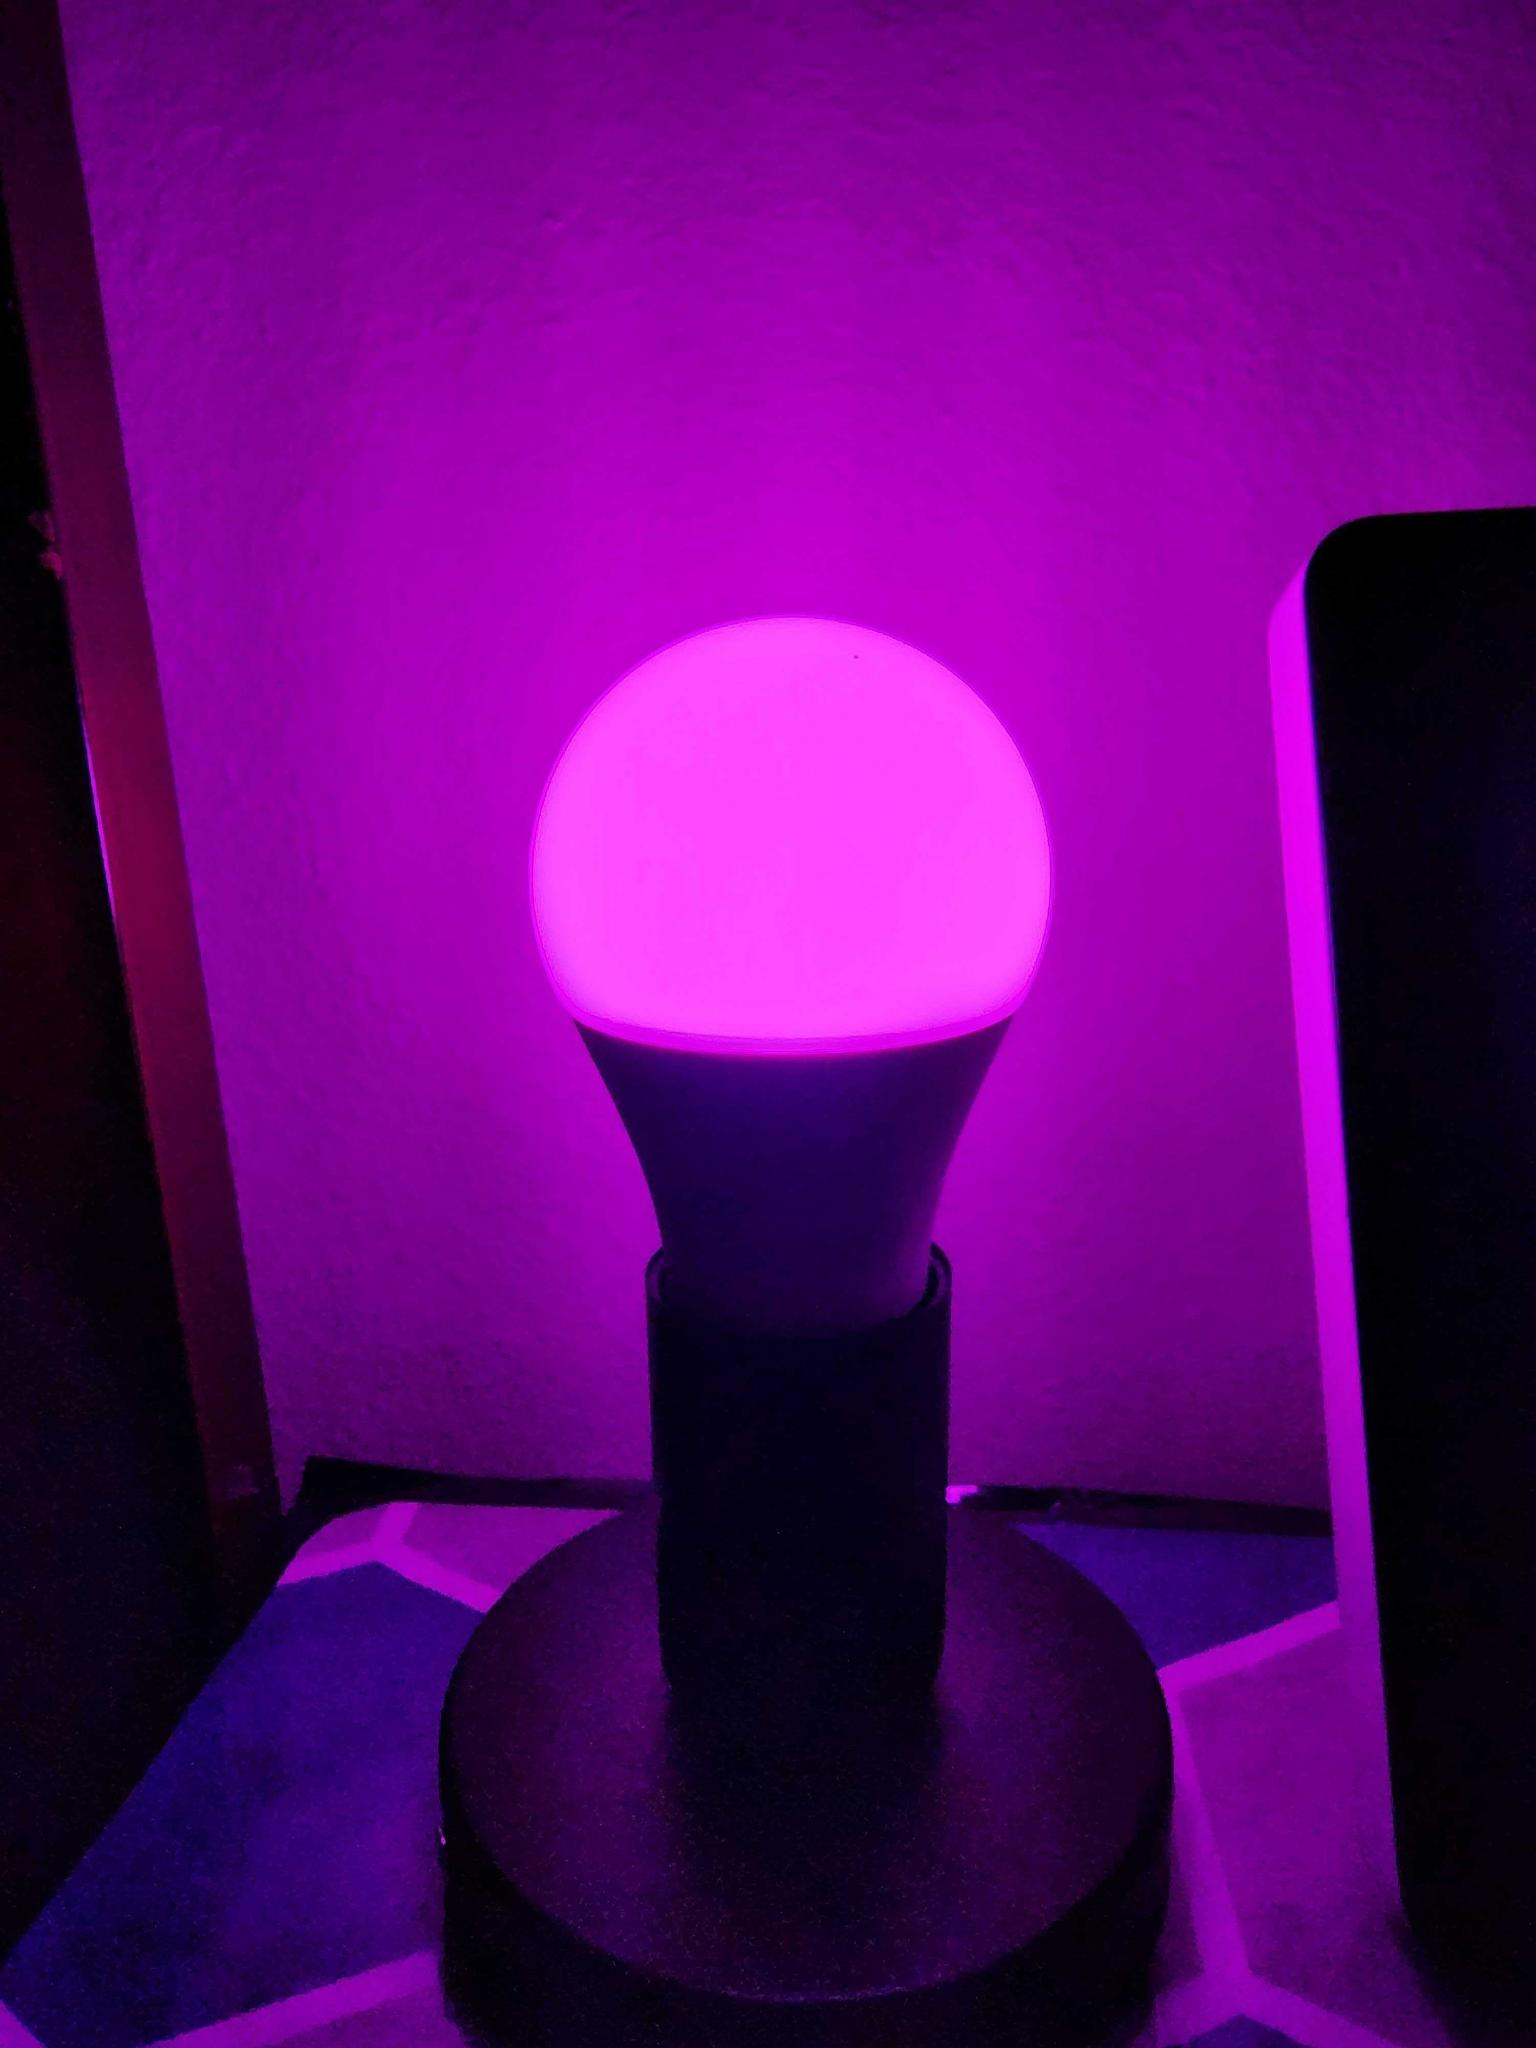TubeLight: (521, 611, 1055, 1495)
